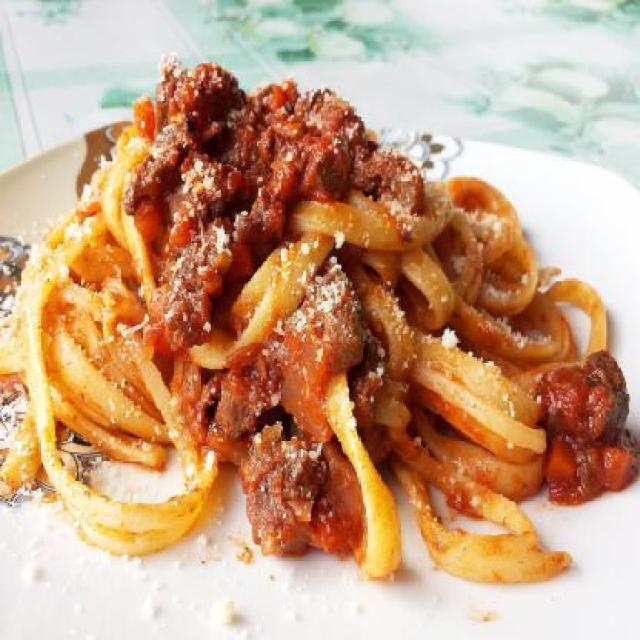Pasta al ragu: (6, 31, 640, 600)
